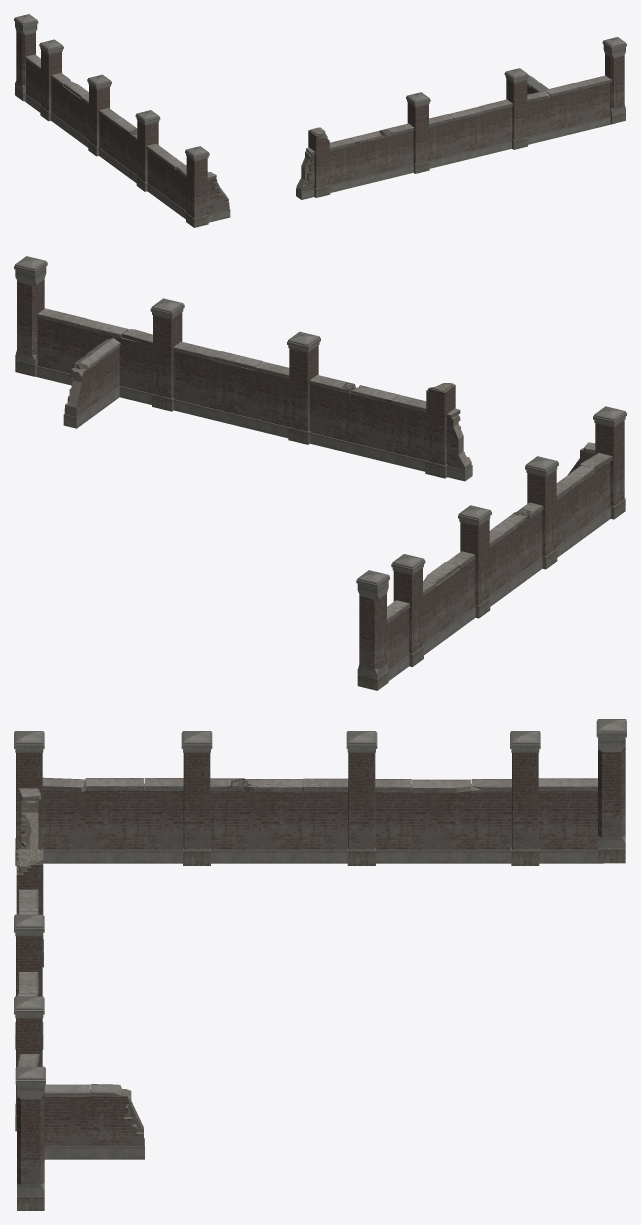
The model's file is Cemetery_STR_OuterWall_04.fbx.
3 views of the same model, one above another, from view 1: azimuth 30°, elevation 25°; view 2: azimuth 150°, elevation 25°; view 3: azimuth 270°, elevation 25° (orthographic). The views are drawn at different scales.
Visible parts, largest first — view 1: Cemetery_STR_OuterWall_04; view 2: Cemetery_STR_OuterWall_04; view 3: Cemetery_STR_OuterWall_04.
Part boxes in pixels (box(x1,y1,x2,y2)): Cemetery_STR_OuterWall_04: box(14, 14, 626, 227); Cemetery_STR_OuterWall_04: box(14, 256, 626, 690); Cemetery_STR_OuterWall_04: box(14, 719, 626, 1210).
Size of the model in its own units: 2022 by 362 by 1454.
1 material, 1 textured.
